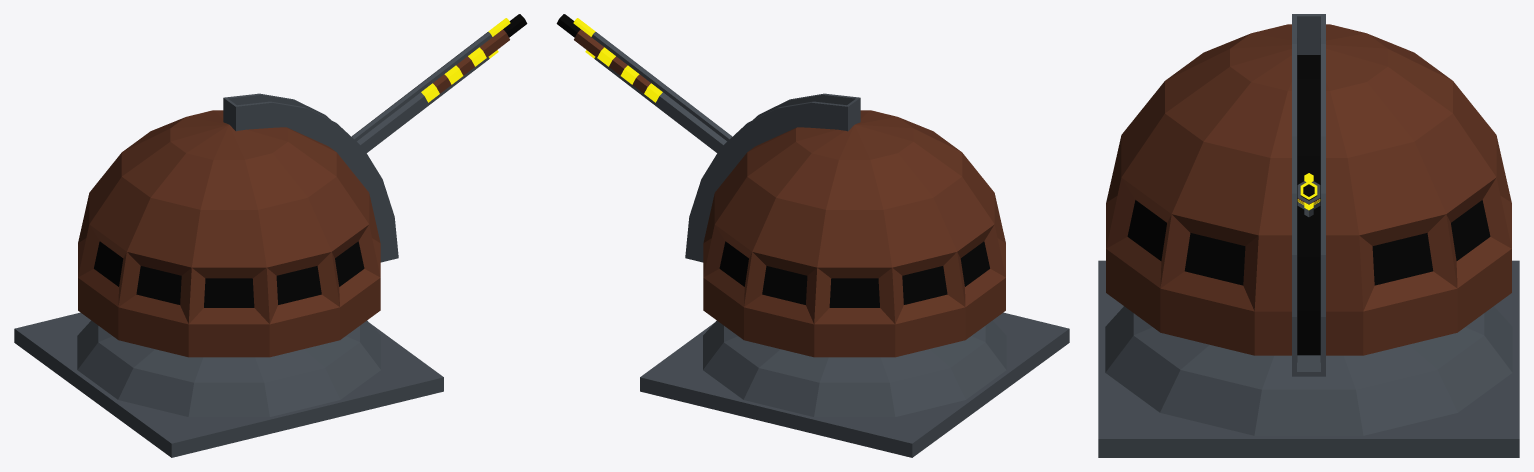
The model's file is flak.glb.
3 renders of one model, left to right at view 1: azimuth 30°, elevation 25°; view 2: azimuth 150°, elevation 25°; view 3: azimuth 270°, elevation 25°, orthographic. The views are drawn at different scales.
Visible parts, largest first — view 1: Circle, Plane, Circle.001, Cylinder; view 2: Circle, Plane, Circle.001, Cylinder; view 3: Circle, Plane, Circle.001, Cylinder.
Part boxes in pixels (box(x1,y1,x2,y2)): Circle: box(77, 110, 380, 416); Plane: box(14, 312, 443, 457); Circle.001: box(223, 93, 398, 262); Cylinder: box(351, 14, 527, 152); Circle: box(703, 110, 1006, 416); Plane: box(640, 312, 1069, 457); Circle.001: box(685, 93, 860, 262); Cylinder: box(556, 14, 732, 152); Circle: box(1105, 24, 1512, 435); Plane: box(1098, 260, 1519, 457); Circle.001: box(1292, 14, 1325, 376); Cylinder: box(1297, 173, 1320, 216).
Size of the model in its own units: 3.18 by 1.98 by 2.
